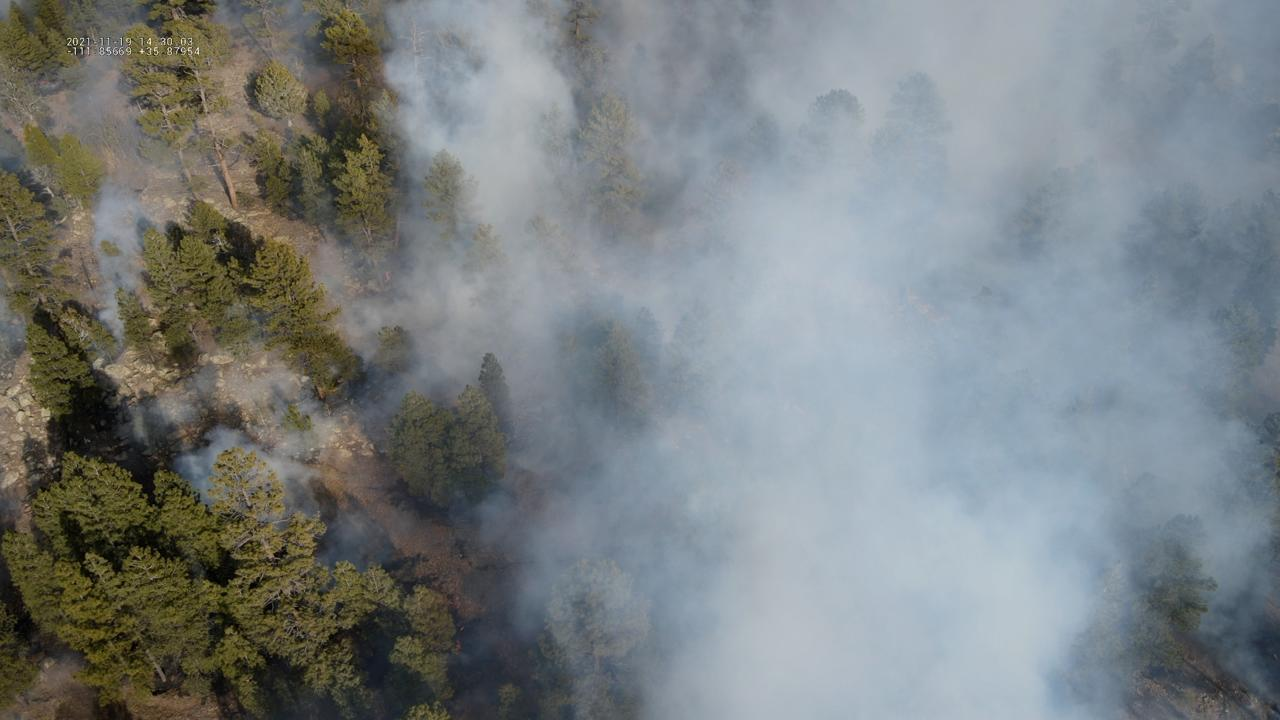fire: (453, 638, 465, 652), (459, 625, 467, 632)
smoke: (0, 0, 1280, 720)
